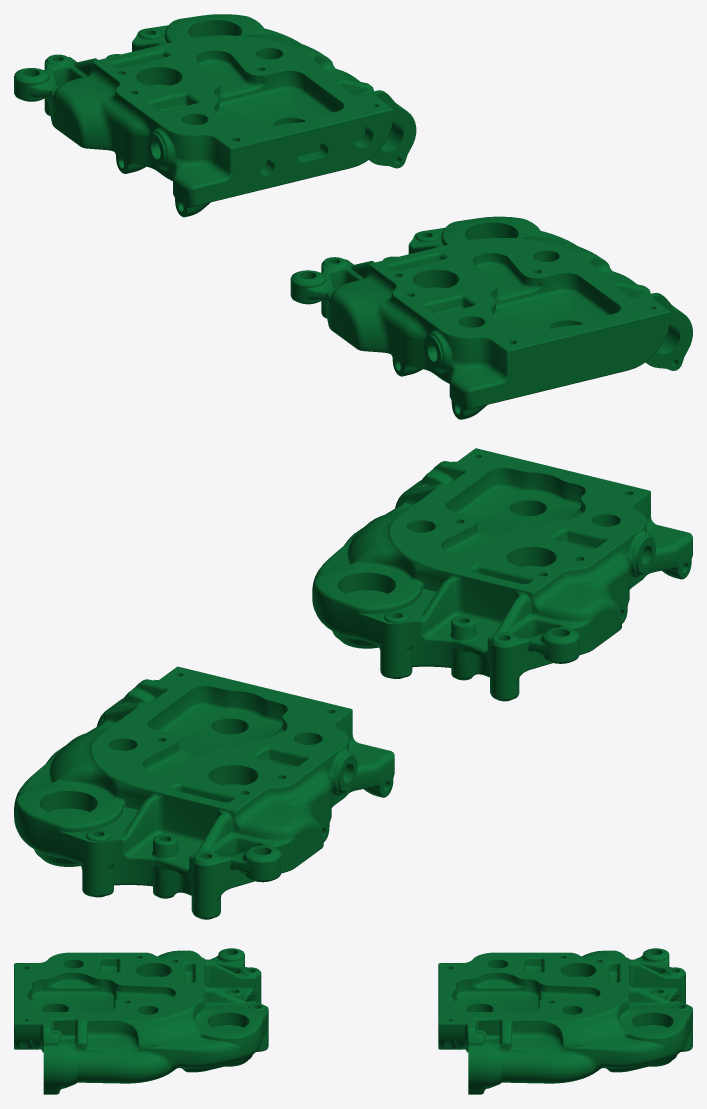
File: 加工工件前後.FBX
3 renders of one model, top to bottom at view 1: azimuth 30°, elevation 25°; view 2: azimuth 150°, elevation 25°; view 3: azimuth 270°, elevation 25°, orthographic. The views are drawn at different scales.
Parts seen in each view (by area): view 1: 加工工件_後, 加工工件_前; view 2: 加工工件_前, 加工工件_後; view 3: 加工工件_後, 加工工件_前.
Boxes of the visible parts, x1,y1,x2,y2 form: 加工工件_後: (290, 216, 692, 419); 加工工件_前: (14, 14, 416, 217); 加工工件_前: (14, 666, 394, 919); 加工工件_後: (312, 448, 692, 701); 加工工件_後: (14, 948, 268, 1094); 加工工件_前: (438, 948, 692, 1094).
Bounding box in the file's own units: 41.25 × 11.29 × 114.
